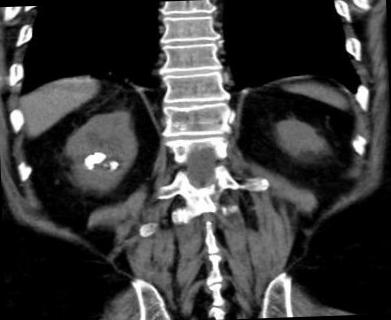Tas_Var: (80, 148, 110, 170), (109, 160, 121, 167), (109, 166, 119, 170), (102, 162, 108, 167)
